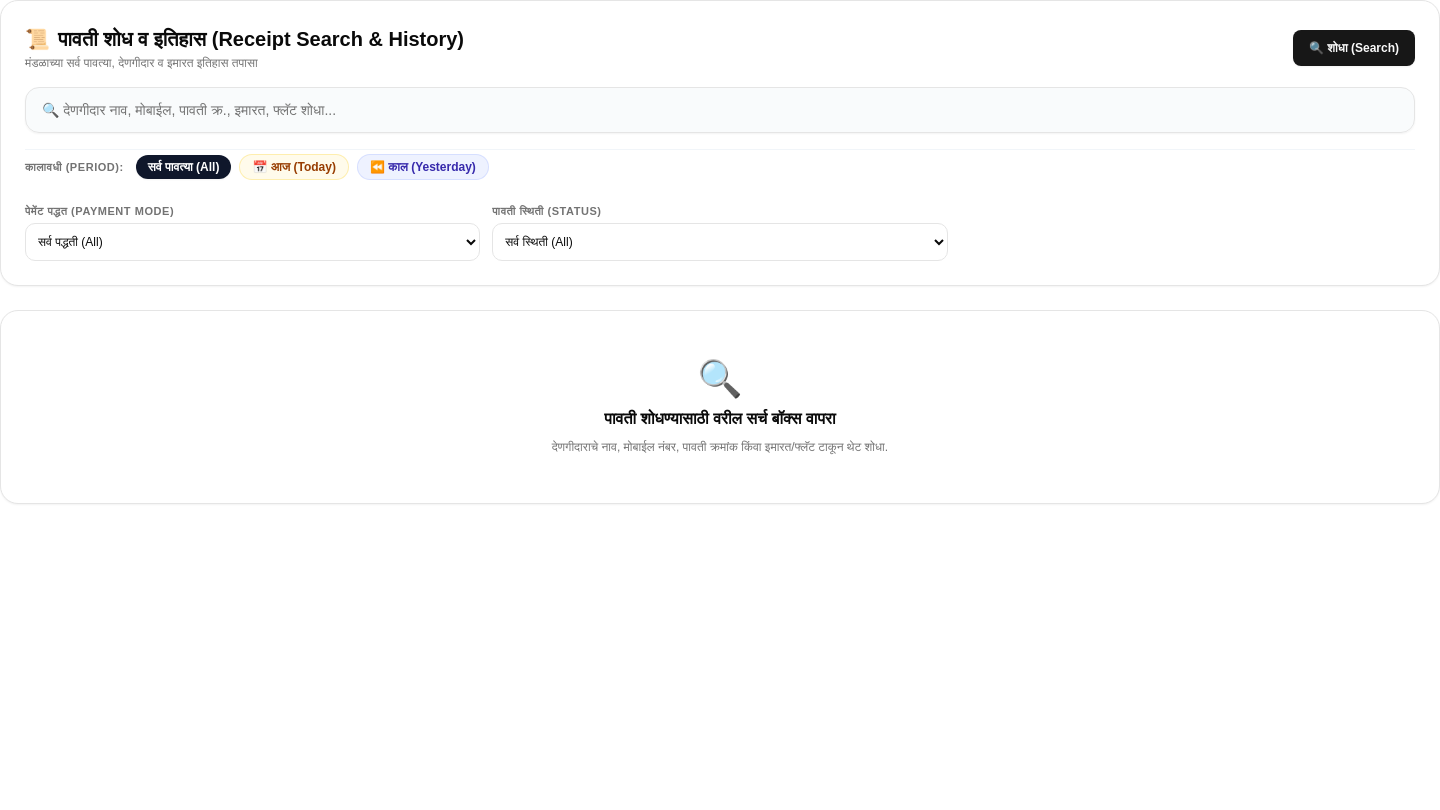
Test: ReceiptSearchPanel (Phase 2J - Direction C) › 4. selecting a receipt renders the Inspector with all 3 tabs and metadata
This screenshot has width=1440, height=810.
Click the button "🔍 शोधा (Search)": x=1354, y=48 [1293,30,1415,66]
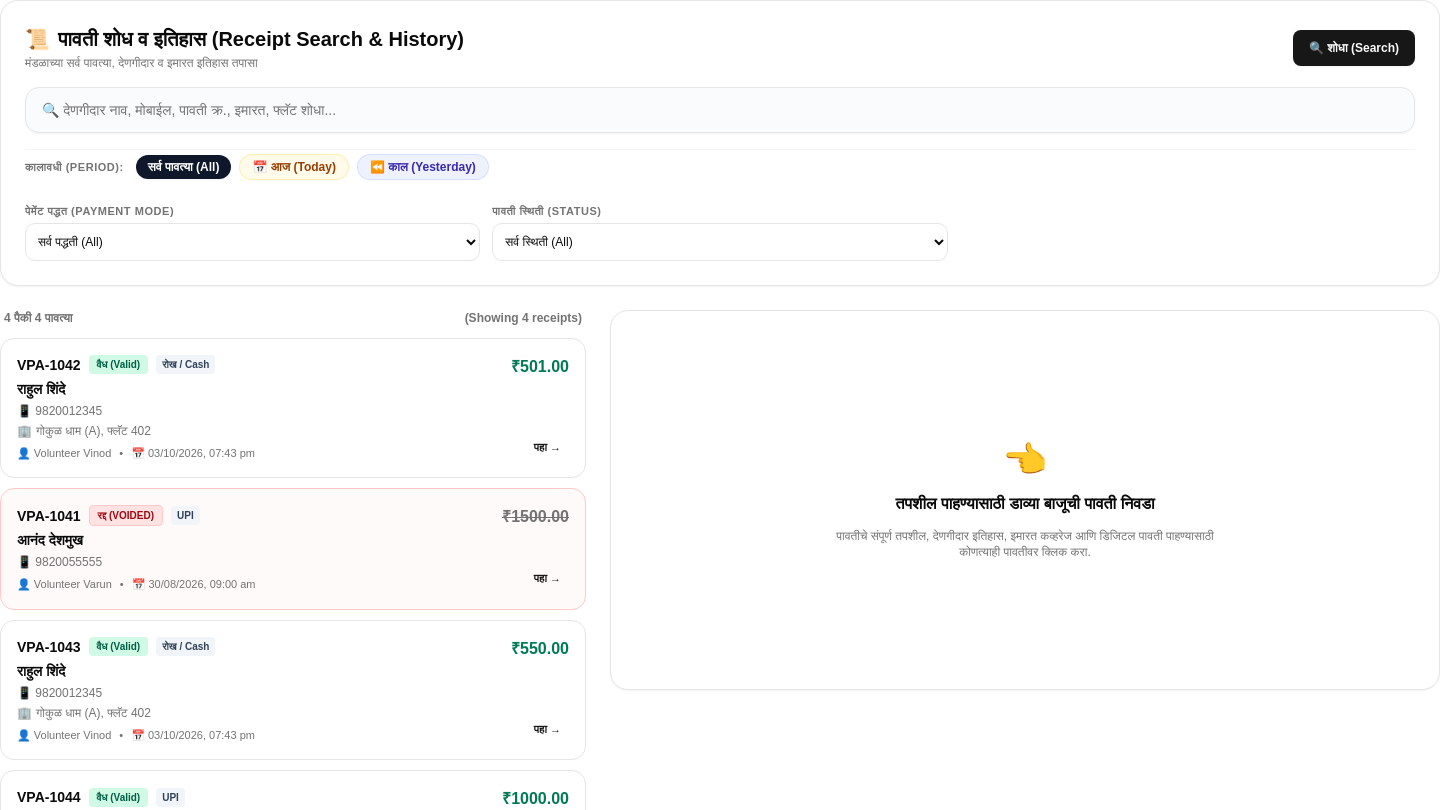
Expected: the text "VPA-1042" is shown
// Click first receipt card to open inspector
Click the text "VPA-1042": x=49, y=365 [17,355,81,375]
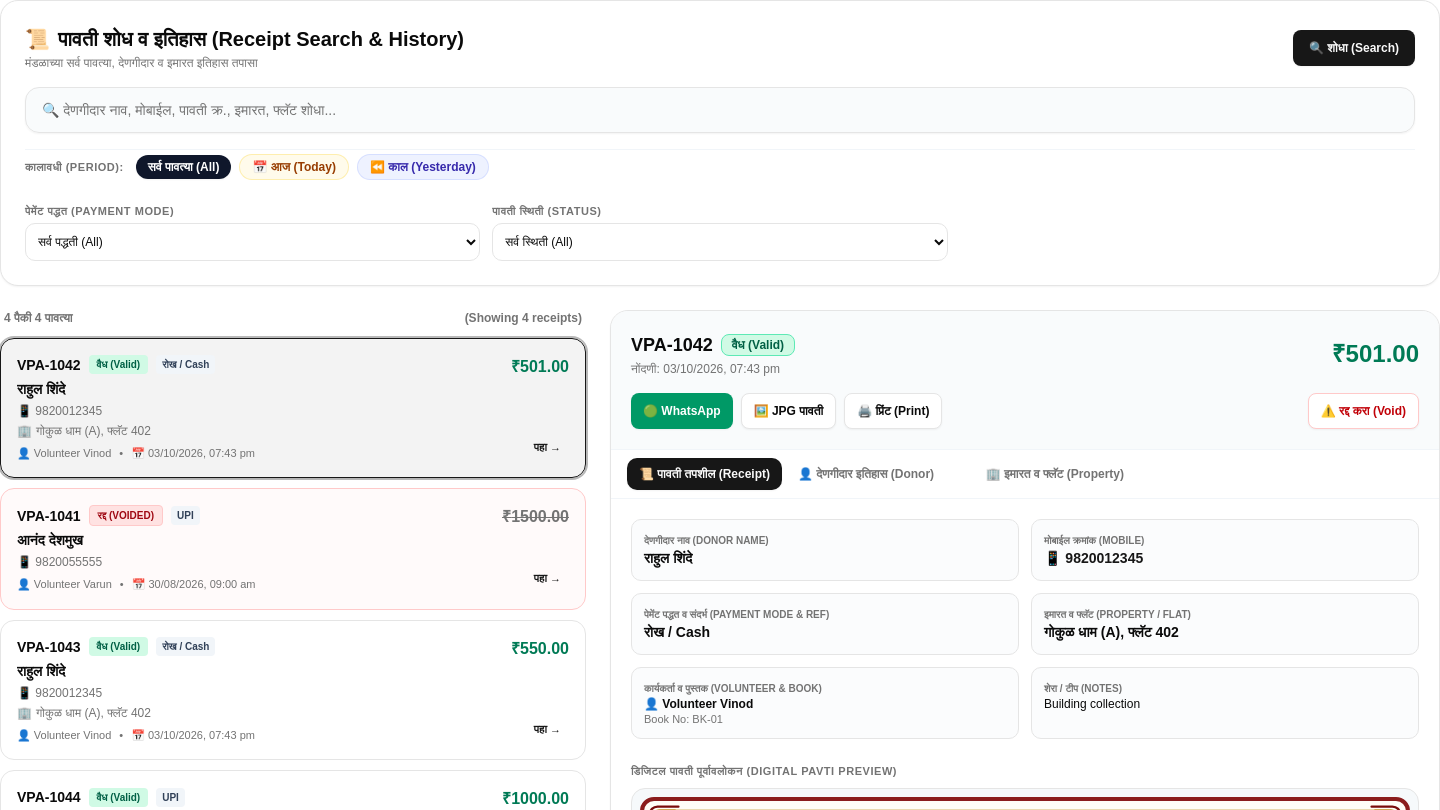
Expected: the button "📜 पावती तपशील (Receipt)" is shown, [627,458,782,490]
Expected: the button "👤 देणगीदार इतिहास (Donor) 2" is shown, [786,458,970,490]
Expected: the button "🏢 इमारत व फ्लॅट (Property)" is shown, [974,458,1136,490]
